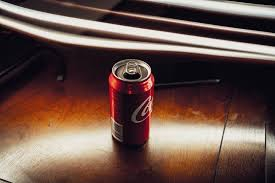can: (106, 56, 152, 148)
